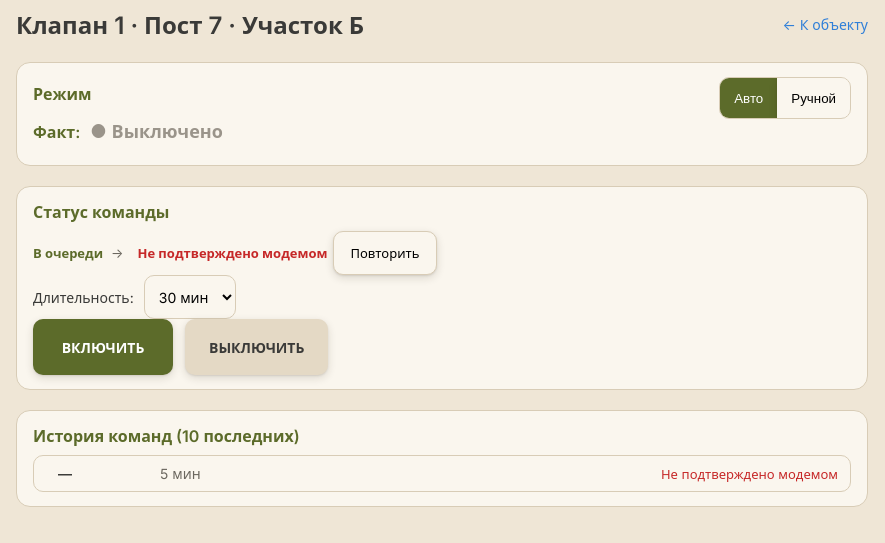
Test: FIX-4: ошибка смены режима › PUT mode вернул 423 → текст ошибки у переключателя
Click the button "Ручной" at (814, 98), box [777,78,850,118]
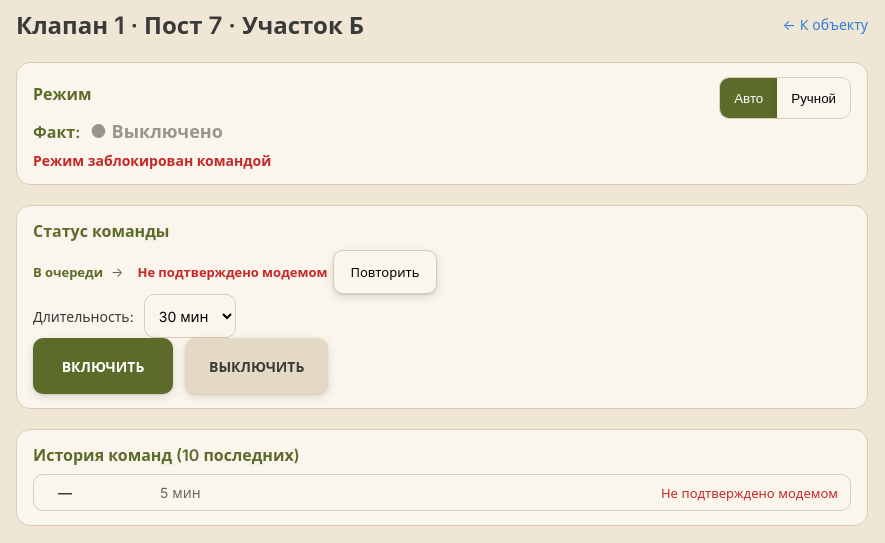
Result: the message with test id "mode-error" reads "Режим заблокирован командой" at [33,152,271,169]
